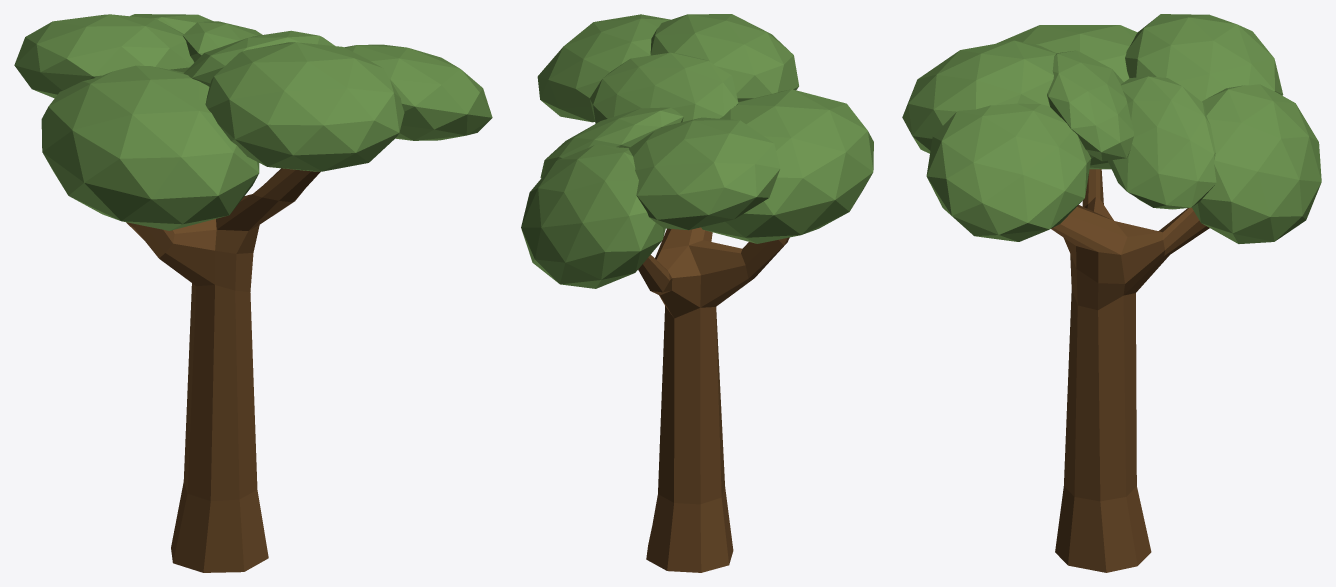
File: TreeBase2.fbx
3 views of the same model, side by side, from view 1: azimuth 30°, elevation 25°; view 2: azimuth 150°, elevation 25°; view 3: azimuth 270°, elevation 25° (orthographic). The views are drawn at different scales.
Visible parts, largest first — view 1: Icosphere.001, treeBase, Icosphere.002, Icosphere; view 2: Icosphere, treeBase, Icosphere.001, Icosphere.002; view 3: Icosphere, Icosphere.001, treeBase, Icosphere.002.
Part boxes in pixels (left/top/right/bottom): Icosphere.001: left=183, top=30, right=492, bottom=171; treeBase: left=126, top=168, right=320, bottom=572; Icosphere.002: left=41, top=65, right=259, bottom=230; Icosphere: left=14, top=14, right=262, bottom=98; Icosphere: left=521, top=107, right=780, bottom=288; treeBase: left=638, top=227, right=789, bottom=572; Icosphere.001: left=537, top=14, right=798, bottom=123; Icosphere.002: left=701, top=89, right=873, bottom=243; Icosphere: left=1108, top=14, right=1321, bottom=243; Icosphere.001: left=902, top=40, right=1133, bottom=241; treeBase: left=1051, top=169, right=1209, bottom=572; Icosphere.002: left=996, top=25, right=1137, bottom=169.
Size of the model in its own units: 456 by 616 by 459.
